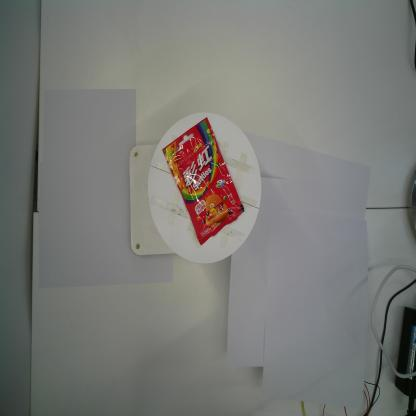Candy: (161, 116, 245, 248)
